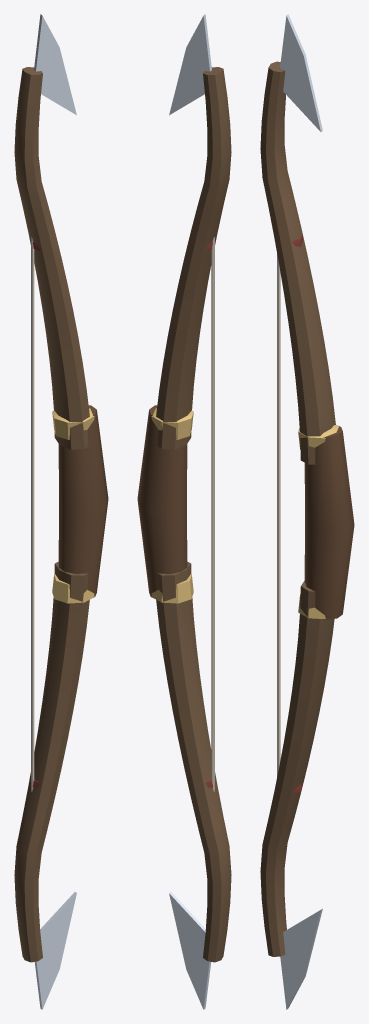
File: depth_saltwind_recurve.glb
The picture shows the model from 3 angles, left to right: view 1: azimuth 30°, elevation 25°; view 2: azimuth 150°, elevation 25°; view 3: azimuth 330°, elevation 25°; orthographic projection.
Visible parts, largest first — view 1: depth_saltwind_recurve; view 2: depth_saltwind_recurve; view 3: depth_saltwind_recurve.
Boxes of the visible parts, x1,y1,x2,y2 form: depth_saltwind_recurve: (14, 14, 108, 1009); depth_saltwind_recurve: (137, 14, 231, 1009); depth_saltwind_recurve: (260, 14, 354, 1009).
Size of the model in its own units: 0.1018 by 1.1 by 0.044.
